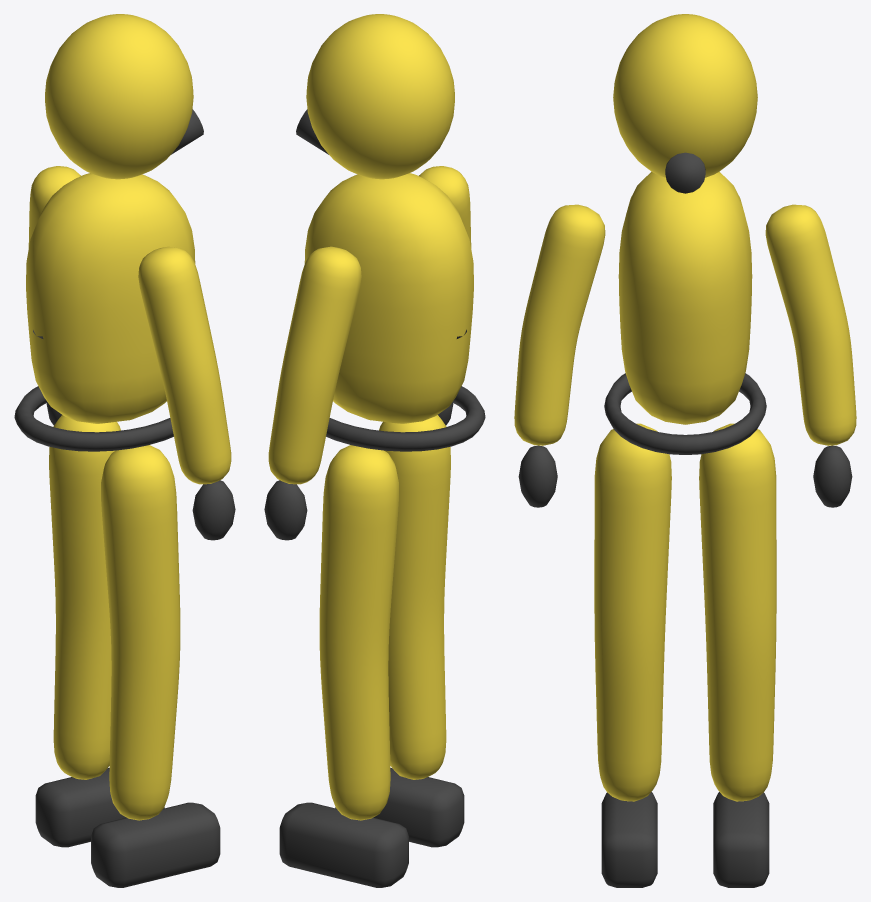
File: SM_Hazmat.fbx
3 renders of one model, left to right at view 1: azimuth 30°, elevation 25°; view 2: azimuth 150°, elevation 25°; view 3: azimuth 270°, elevation 25°, orthographic.
Visible parts, largest first — view 1: SM_Hazmat; view 2: SM_Hazmat; view 3: SM_Hazmat.
Part boxes in pixels (x1=…): SM_Hazmat: x1=14, y1=14, x2=235, y2=887; SM_Hazmat: x1=264, y1=14, x2=485, y2=887; SM_Hazmat: x1=514, y1=14, x2=856, y2=887.
Size of the model in its own units: 40.13 by 183 by 67.37.
